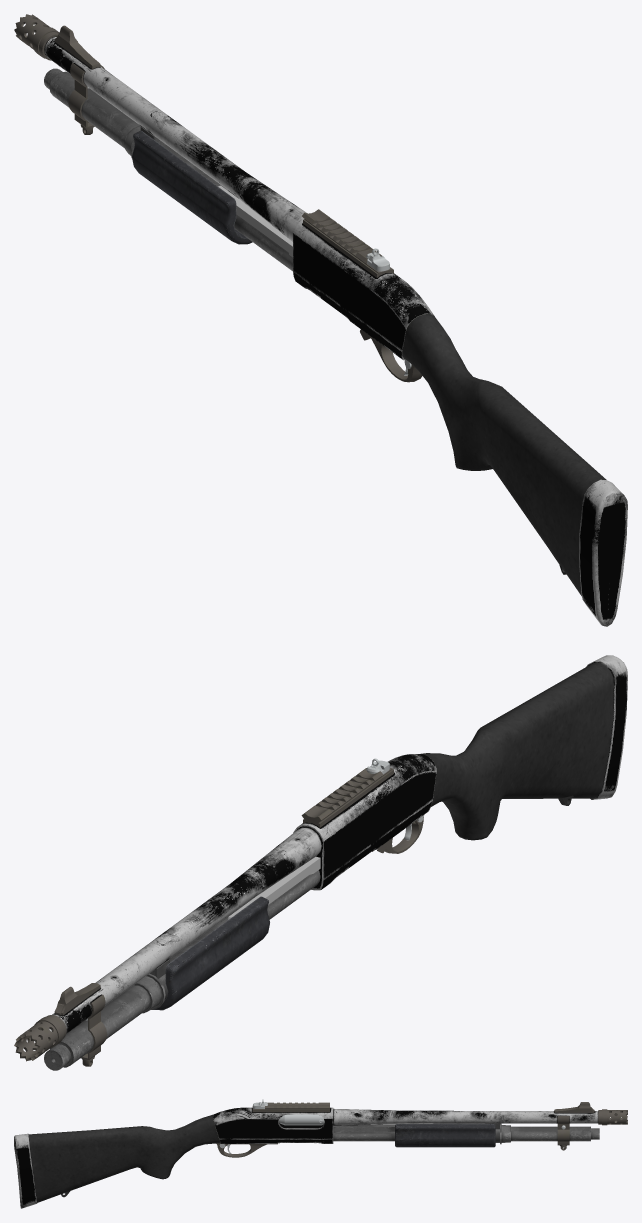
Rendered from shotgun_model.fbx.
The picture shows the model from 3 angles, top to bottom: view 1: azimuth 30°, elevation 25°; view 2: azimuth 150°, elevation 25°; view 3: azimuth 270°, elevation 25°; orthographic projection. The views are drawn at different scales.
Visible parts, largest first — view 1: M870_Tactical; view 2: M870_Tactical; view 3: M870_Tactical.
Part boxes in pixels (x1,y1,x2,y2): M870_Tactical: (14,14,627,626); M870_Tactical: (14,655,627,1070); M870_Tactical: (14,1099,627,1208).
Size of the model in its own units: 43.78 by 195 by 994.
Materials: 1 (1 with a texture image).
